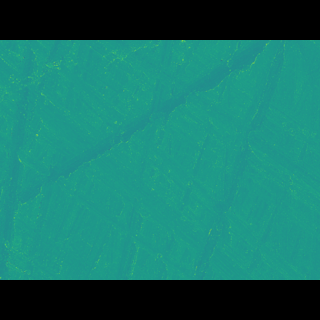Loch: (0, 71, 320, 250), (7, 69, 271, 196)
